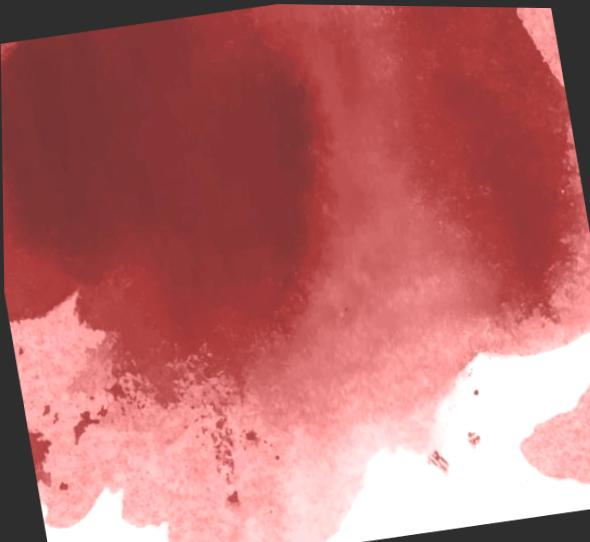Fire: (1, 3, 590, 542), (520, 385, 590, 483)
